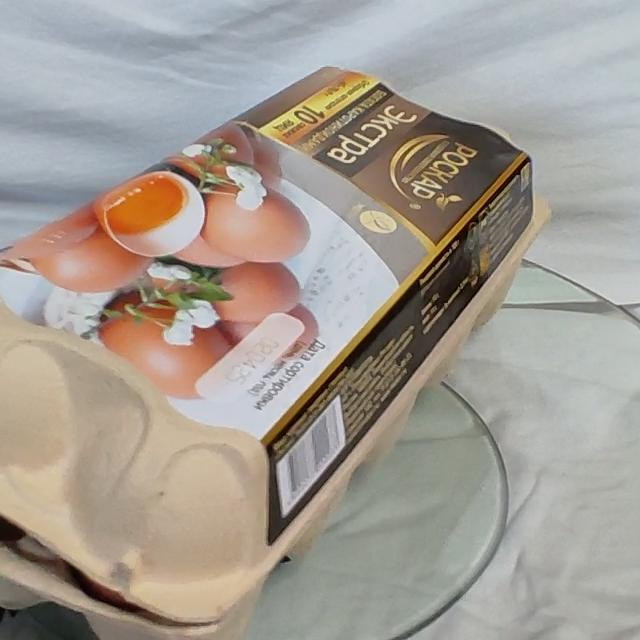egg: (0, 62, 562, 640)
